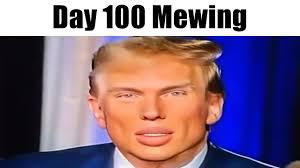mewing: (96, 46, 219, 160)
